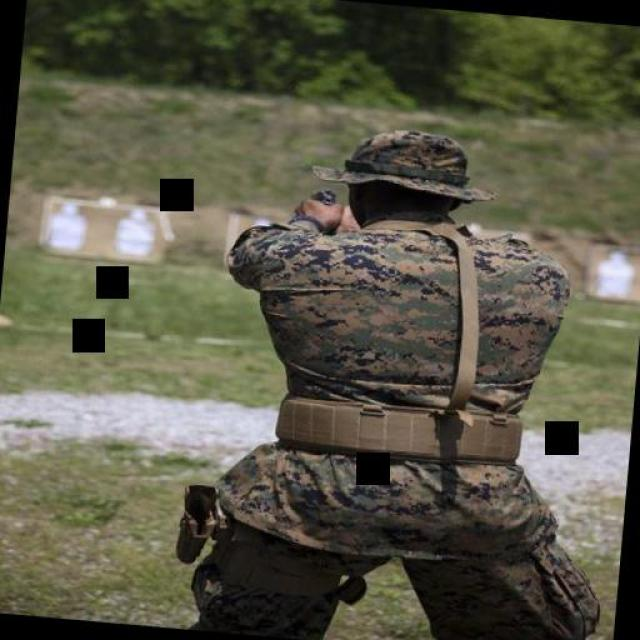gun: (288, 180, 344, 218)
